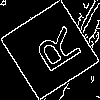R: (25, 24, 84, 80)
